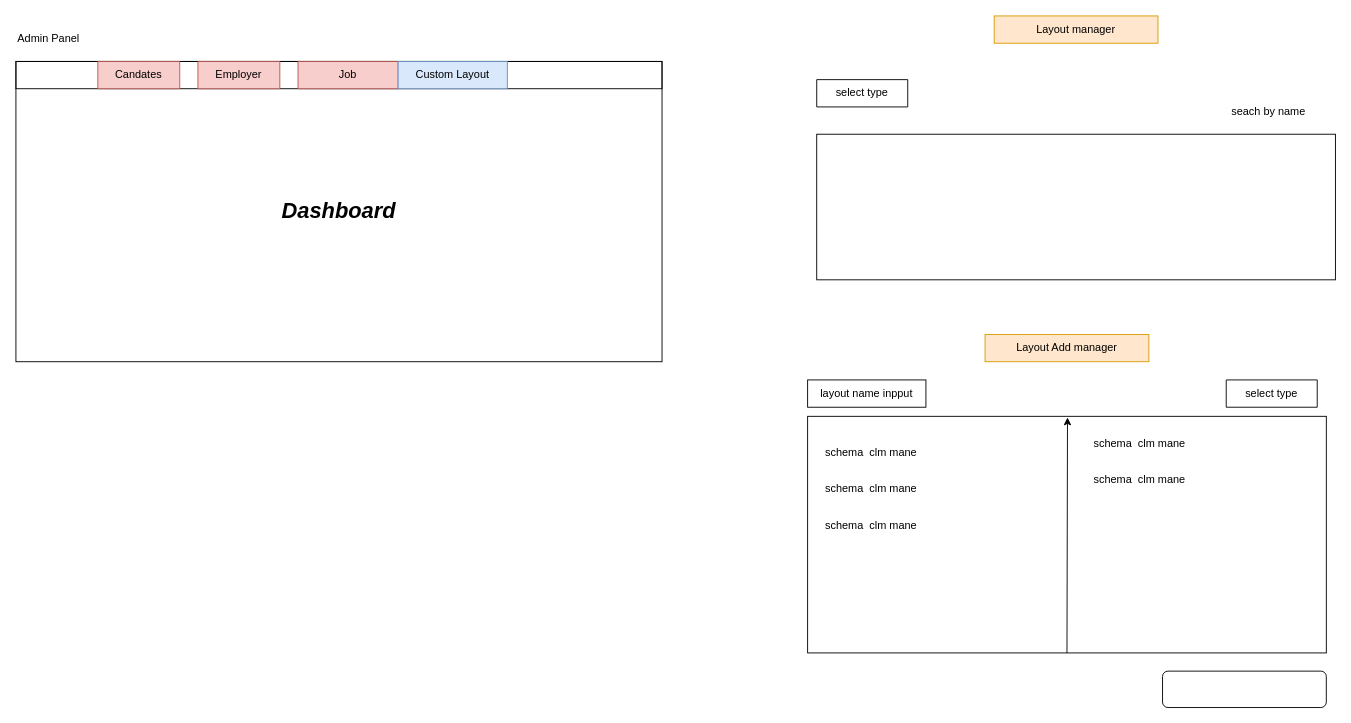
This 1351x723 diagram has some shape labels left out. Each missing label, with the centre of its shape:
"Display Data table with field name, type, count, icons" goes at (x=1075, y=206).
"save" goes at (x=1244, y=689).
